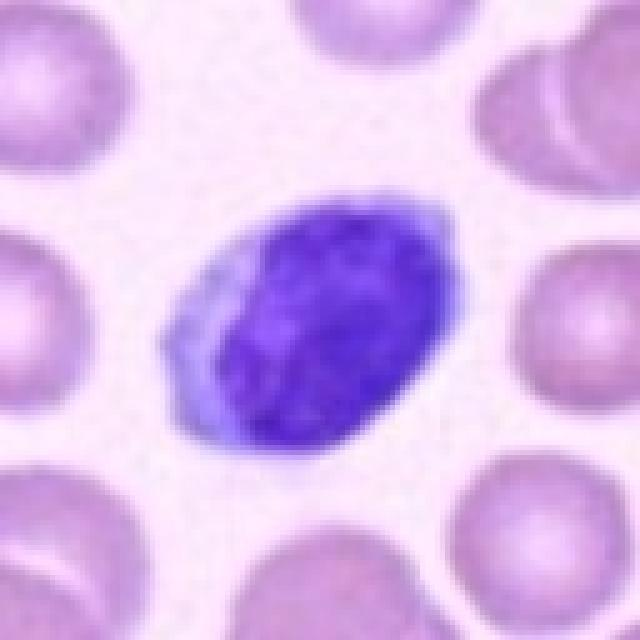lympho: (149, 182, 468, 458)
